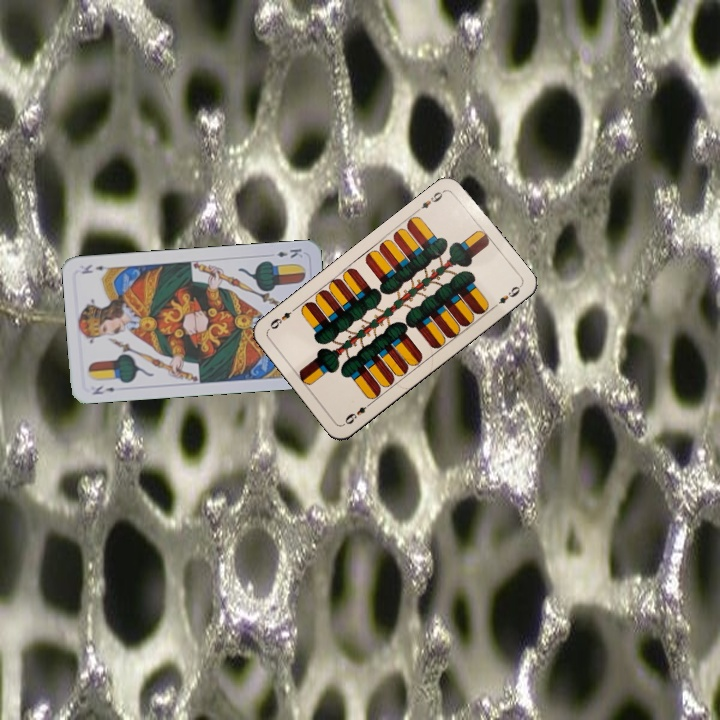E9: (340, 398, 375, 428), (413, 186, 448, 215)
EK: (273, 244, 305, 260), (88, 381, 117, 397)
